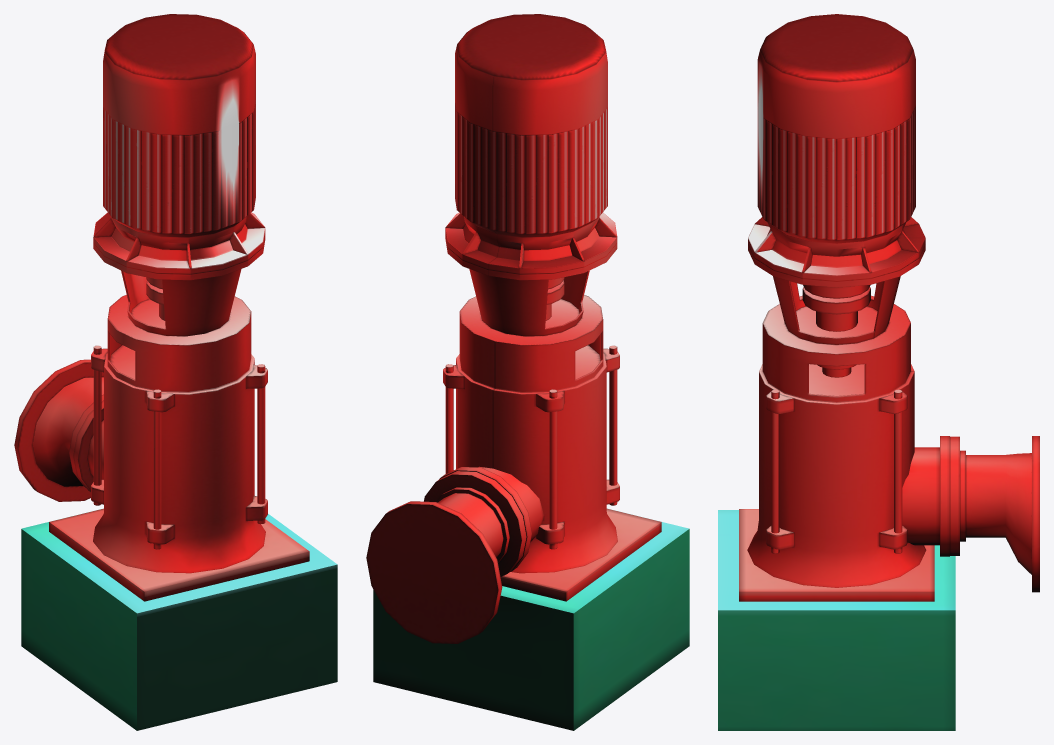
The model's file is lengquebeng003.FBX.
The picture shows the model from 3 angles, left to right: view 1: azimuth 30°, elevation 25°; view 2: azimuth 150°, elevation 25°; view 3: azimuth 270°, elevation 25°; orthographic projection. The views are drawn at different scales.
Visible parts, largest first — view 1: lengquebeng003; view 2: lengquebeng003; view 3: lengquebeng003.
Boxes of the visible parts, bbox=[...] form: lengquebeng003: bbox=[14, 14, 337, 730]; lengquebeng003: bbox=[366, 14, 689, 730]; lengquebeng003: bbox=[718, 14, 1039, 730].
Bounding box in the file's own units: 612 × 1818 × 829.
